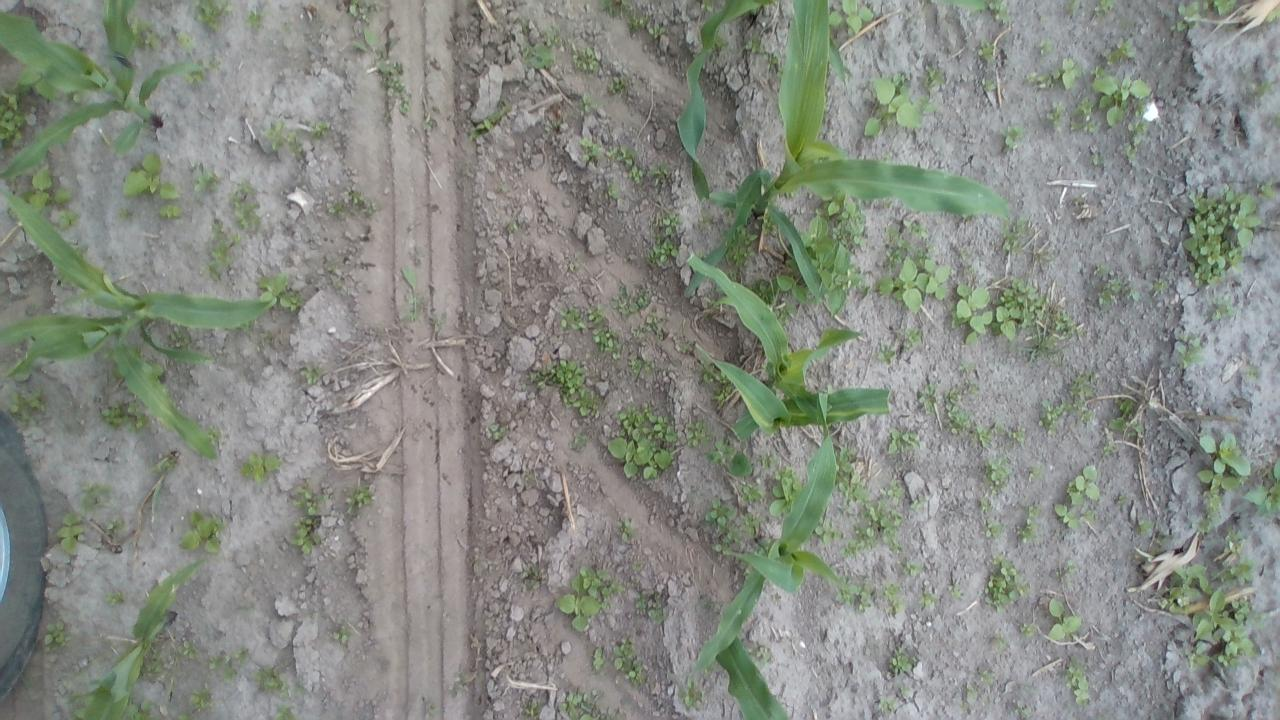Maize: (681, 0, 1012, 296), (0, 189, 280, 461), (688, 390, 853, 679), (687, 253, 892, 437), (0, 0, 205, 167), (67, 557, 211, 720), (674, 0, 766, 199), (715, 635, 792, 720), (144, 452, 180, 523), (930, 0, 991, 12)
Weeds: (1180, 191, 1262, 289), (862, 68, 950, 141), (604, 400, 681, 481), (552, 564, 622, 633), (528, 360, 604, 418), (876, 256, 949, 316), (952, 279, 1016, 345), (1091, 62, 1154, 128), (1040, 368, 1101, 432), (841, 496, 905, 556), (1190, 433, 1250, 493), (1051, 465, 1102, 531), (816, 244, 864, 314), (120, 151, 186, 201), (802, 197, 863, 248), (946, 379, 992, 446), (589, 634, 647, 686), (288, 485, 329, 554), (982, 551, 1029, 609), (596, 0, 665, 38), (1243, 455, 1280, 523), (1162, 560, 1210, 612), (878, 216, 928, 264), (1090, 264, 1139, 311), (836, 444, 874, 503), (175, 508, 223, 554), (752, 262, 804, 304), (1193, 587, 1233, 641), (1002, 278, 1048, 324), (378, 53, 412, 115), (205, 221, 239, 282), (766, 466, 804, 520), (877, 328, 931, 366), (231, 176, 267, 232), (649, 210, 684, 264), (1042, 596, 1082, 640), (31, 165, 71, 209), (1192, 488, 1226, 539), (556, 686, 606, 720), (258, 274, 302, 312), (474, 98, 513, 140), (608, 137, 644, 182), (586, 303, 616, 357), (206, 648, 251, 683), (8, 386, 46, 426), (628, 588, 668, 626), (1171, 328, 1208, 368), (57, 511, 89, 557), (828, 0, 874, 32), (241, 450, 284, 484), (1, 89, 27, 145), (403, 265, 427, 325), (1100, 36, 1144, 68), (835, 575, 875, 610), (725, 226, 758, 268), (266, 120, 306, 154), (102, 402, 150, 430), (1064, 660, 1096, 702), (1046, 305, 1088, 337), (1108, 394, 1142, 431), (17, 69, 55, 102), (701, 366, 732, 406), (194, 0, 231, 32), (524, 38, 558, 72), (1116, 119, 1149, 153), (1050, 54, 1082, 89), (632, 318, 674, 344), (703, 496, 739, 526), (249, 666, 284, 696), (80, 482, 116, 511), (1018, 502, 1044, 542), (617, 286, 654, 314), (884, 428, 922, 455), (1001, 216, 1028, 254), (340, 483, 372, 514), (914, 372, 940, 410), (881, 584, 908, 620), (1026, 332, 1058, 362), (985, 459, 1015, 490), (1220, 561, 1257, 586), (42, 620, 72, 650), (132, 19, 162, 49), (192, 162, 222, 192), (1218, 528, 1247, 558), (1171, 1, 1199, 32), (1222, 626, 1254, 652), (572, 47, 602, 74), (351, 25, 378, 55), (959, 679, 982, 713), (680, 679, 704, 711), (704, 438, 731, 466), (606, 72, 633, 100), (925, 63, 950, 93), (1002, 120, 1024, 154), (986, 1, 1014, 27), (684, 420, 708, 450), (1072, 96, 1092, 132), (1230, 596, 1258, 620), (734, 482, 765, 503), (974, 40, 999, 66), (298, 362, 324, 387), (615, 516, 644, 538), (141, 654, 166, 679), (744, 510, 769, 535), (713, 532, 740, 555), (1033, 244, 1055, 272), (350, 191, 376, 214), (816, 523, 845, 543), (651, 162, 674, 187), (560, 306, 582, 332), (956, 359, 986, 378), (888, 650, 916, 670), (1208, 302, 1236, 322), (1251, 79, 1280, 98), (1008, 420, 1033, 442), (1049, 98, 1066, 128), (191, 688, 216, 708), (883, 479, 906, 500), (899, 559, 924, 578), (630, 357, 649, 382), (1096, 440, 1122, 458), (58, 208, 80, 229), (332, 624, 354, 644), (697, 208, 717, 229), (878, 693, 898, 714), (1186, 648, 1206, 669), (350, 0, 376, 16), (128, 701, 151, 719), (1213, 0, 1238, 16), (568, 428, 589, 447), (917, 590, 939, 608), (157, 204, 185, 218), (271, 704, 297, 719), (984, 518, 1004, 537), (988, 628, 1009, 646), (978, 664, 1004, 678), (524, 699, 543, 718), (1154, 276, 1172, 296), (1064, 0, 1084, 18), (581, 92, 599, 112), (1027, 70, 1047, 88), (582, 137, 599, 158), (182, 638, 198, 660), (1242, 365, 1264, 381), (175, 31, 194, 49), (1096, 0, 1116, 17), (605, 178, 618, 204), (1020, 621, 1038, 639), (1112, 492, 1132, 507), (485, 424, 502, 441), (105, 590, 123, 606), (1024, 464, 1042, 480), (1136, 520, 1154, 536), (312, 120, 328, 138), (247, 12, 263, 30), (168, 330, 188, 344), (1257, 180, 1272, 198), (326, 201, 344, 216), (898, 686, 914, 702), (947, 584, 965, 598), (978, 77, 997, 90), (108, 516, 124, 531), (1014, 700, 1030, 715), (1038, 37, 1054, 52), (120, 208, 137, 222), (759, 454, 778, 466), (1063, 560, 1078, 575), (184, 73, 204, 84), (910, 499, 928, 510), (178, 710, 195, 720), (746, 36, 758, 50), (699, 0, 717, 9), (976, 497, 988, 510), (1268, 10, 1280, 22), (1218, 656, 1232, 666), (509, 224, 518, 231)
